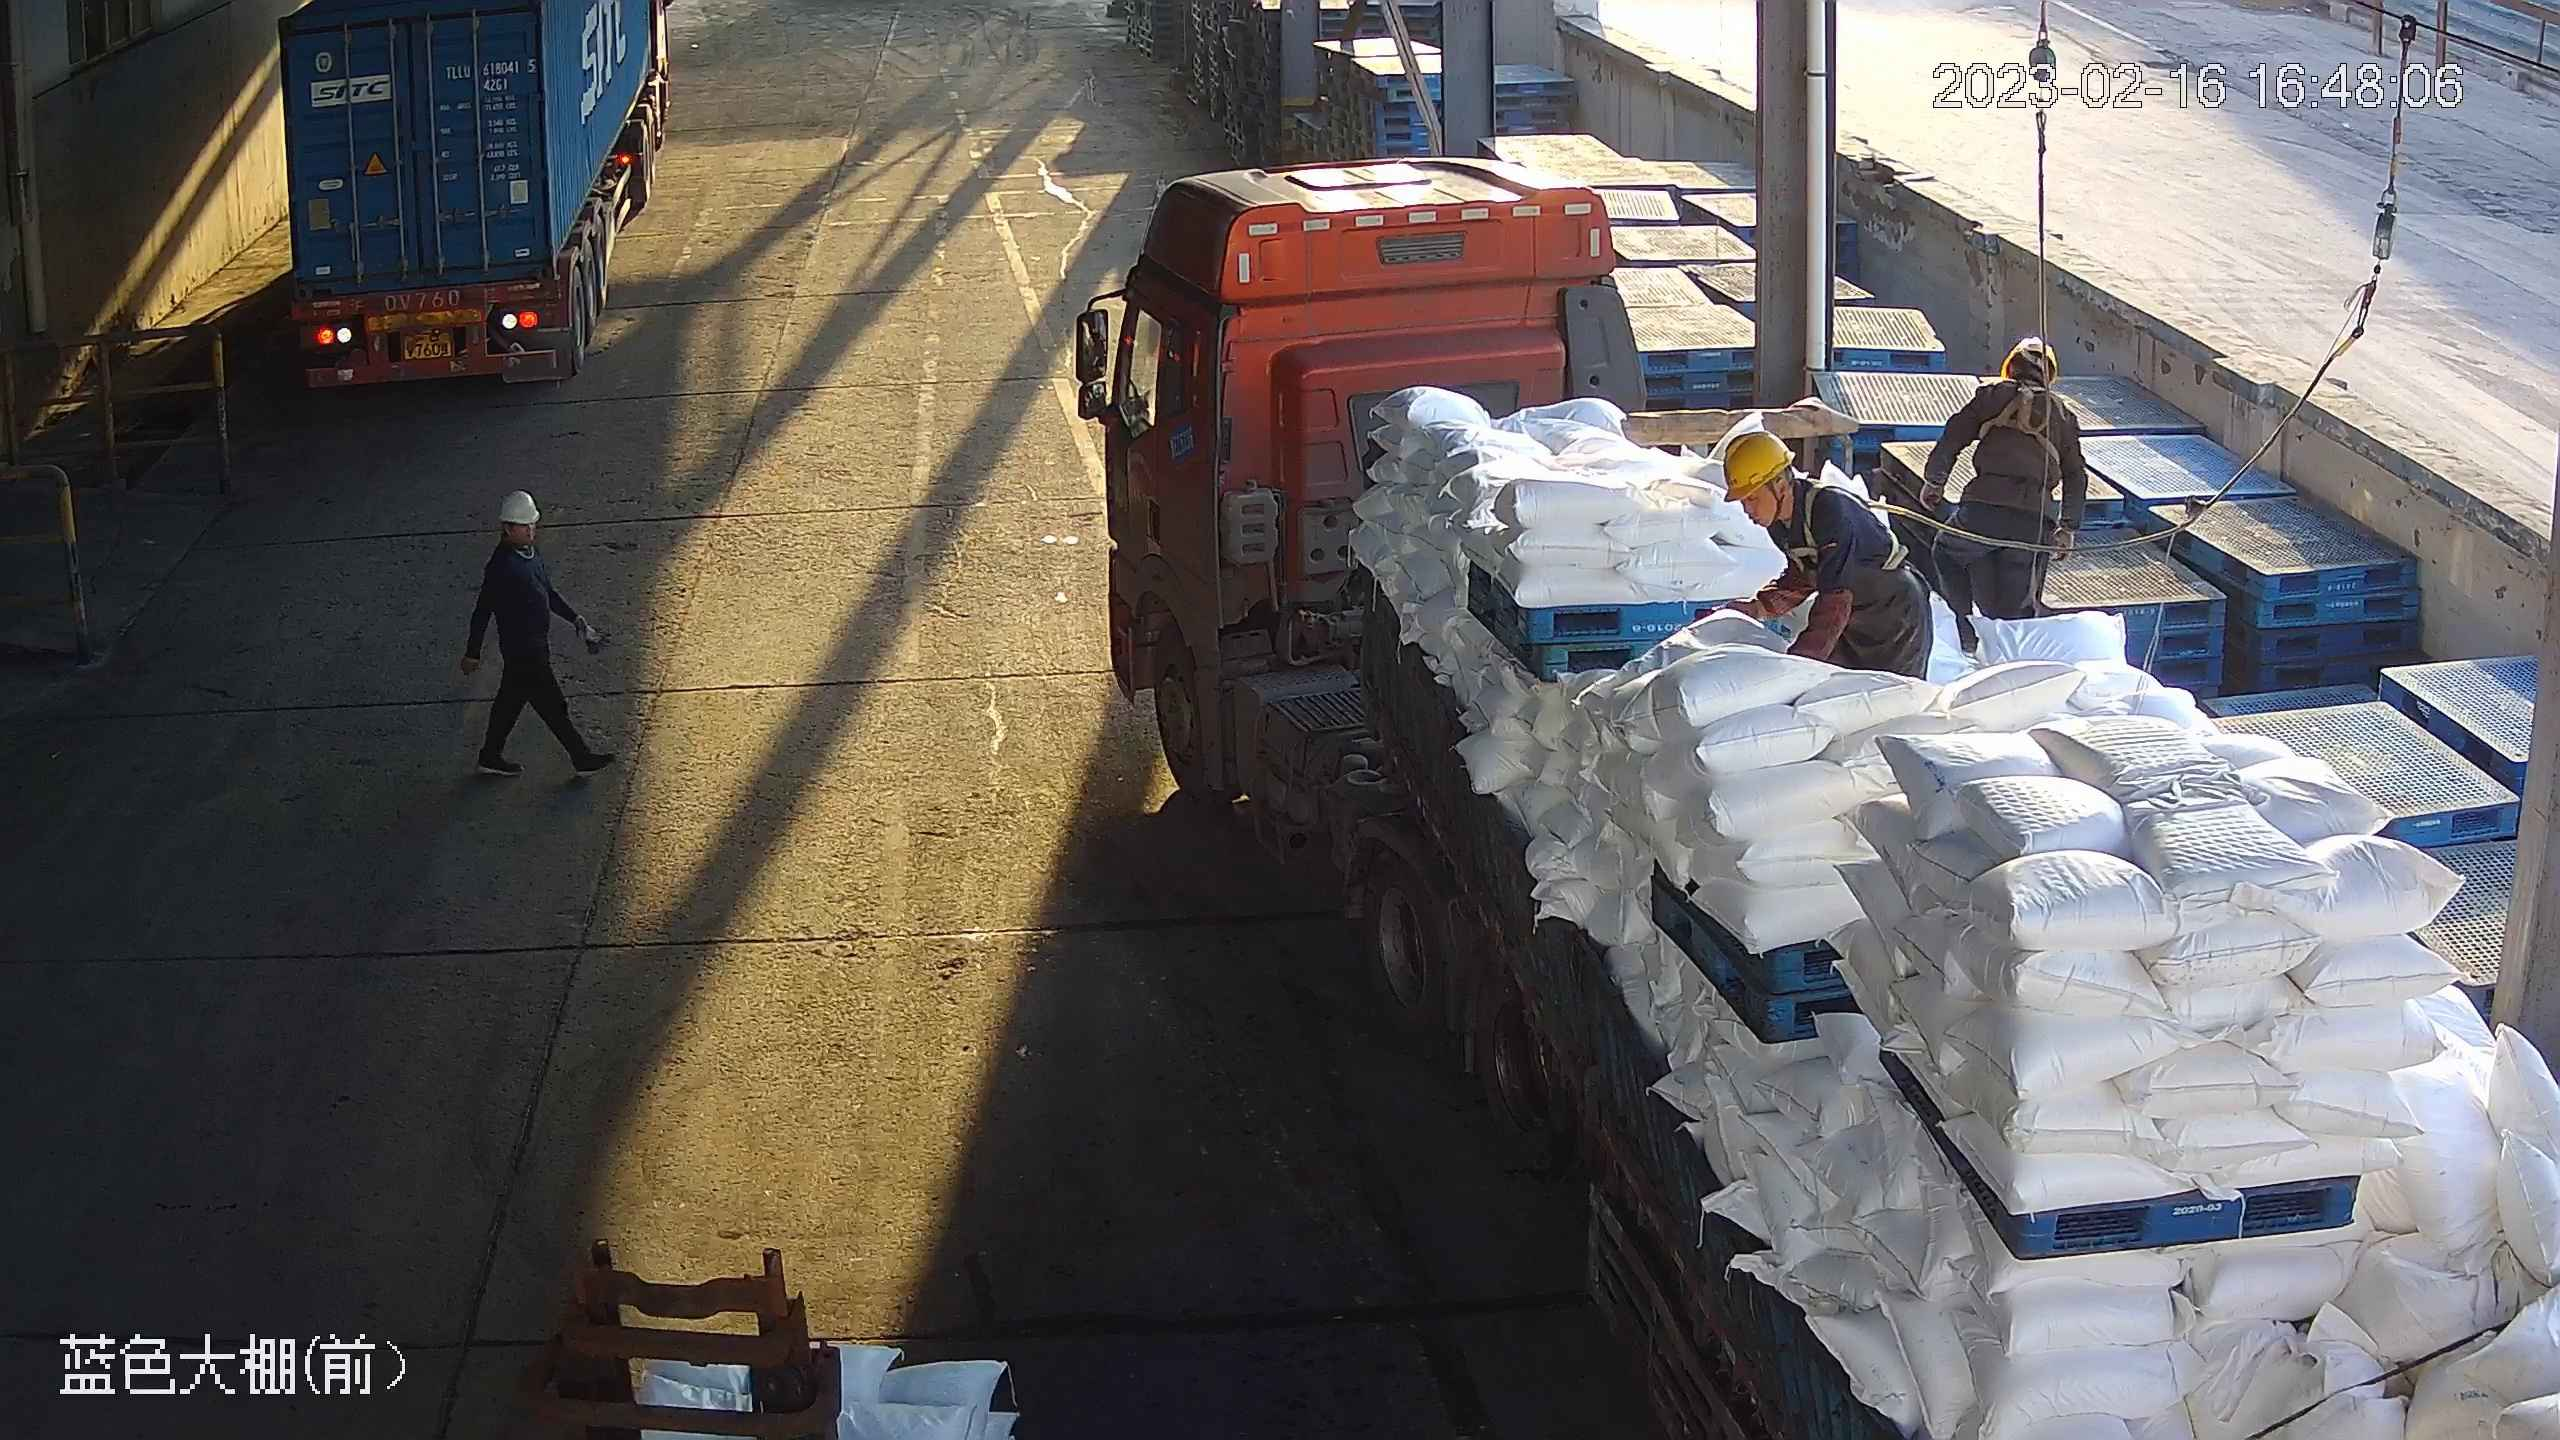belt: (1781, 478, 1911, 571), (1978, 378, 2068, 468)
head: (1722, 428, 1862, 553), (1961, 337, 2080, 443), (484, 491, 550, 587)
helmet: (1723, 429, 1795, 502), (1999, 336, 2059, 388), (495, 491, 540, 527)
people: (1693, 429, 1934, 681), (1919, 335, 2088, 653), (460, 490, 618, 779)
truck: (1072, 155, 2560, 1440), (272, 1, 669, 392)
